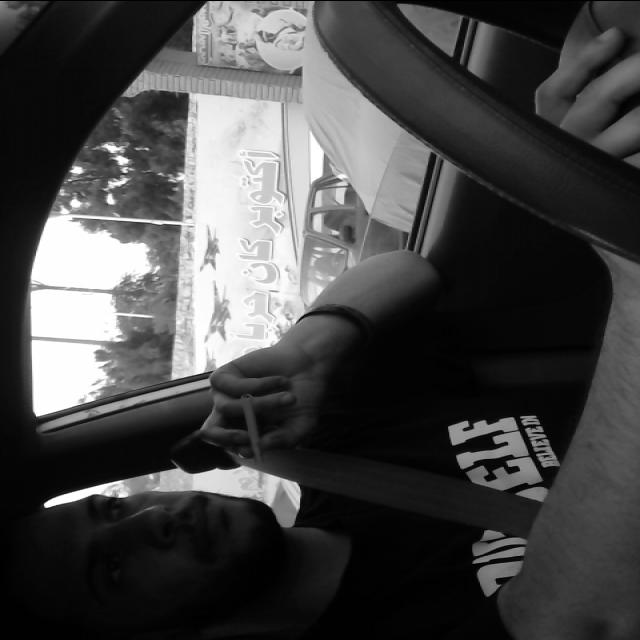smoking: (233, 390, 276, 466)
